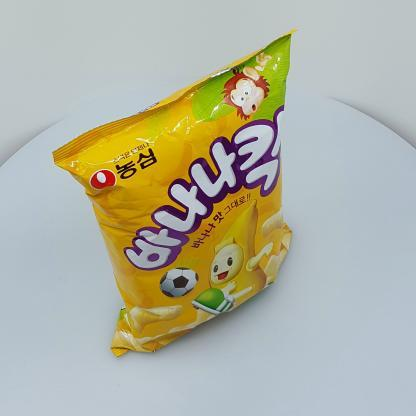Plastic Packaging: (46, 22, 304, 362)
